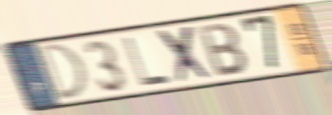3: (84, 38, 128, 94)
7: (238, 13, 281, 74)
B: (195, 22, 251, 79)
D: (37, 41, 92, 104)
L: (121, 35, 172, 88)
X: (155, 23, 217, 87)
